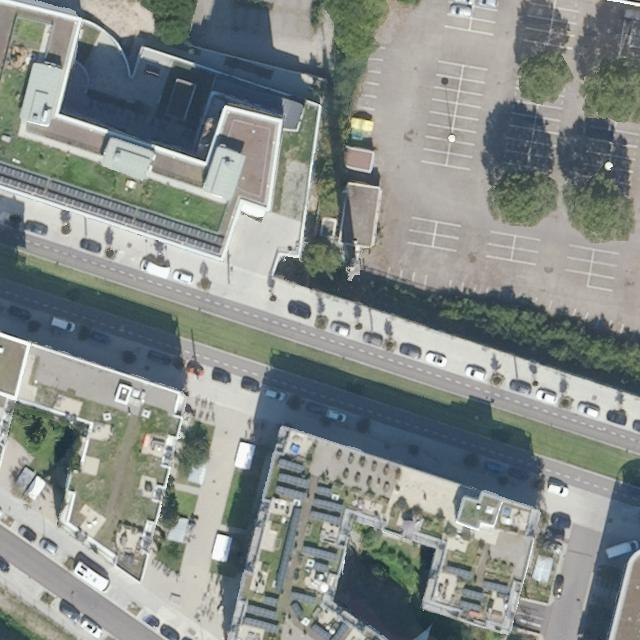PV: (271, 504, 304, 593), (306, 482, 347, 531), (274, 455, 313, 505), (243, 594, 281, 638), (297, 542, 340, 576), (288, 590, 317, 619), (310, 621, 351, 639), (459, 588, 486, 615), (444, 564, 475, 582), (482, 580, 510, 596)
